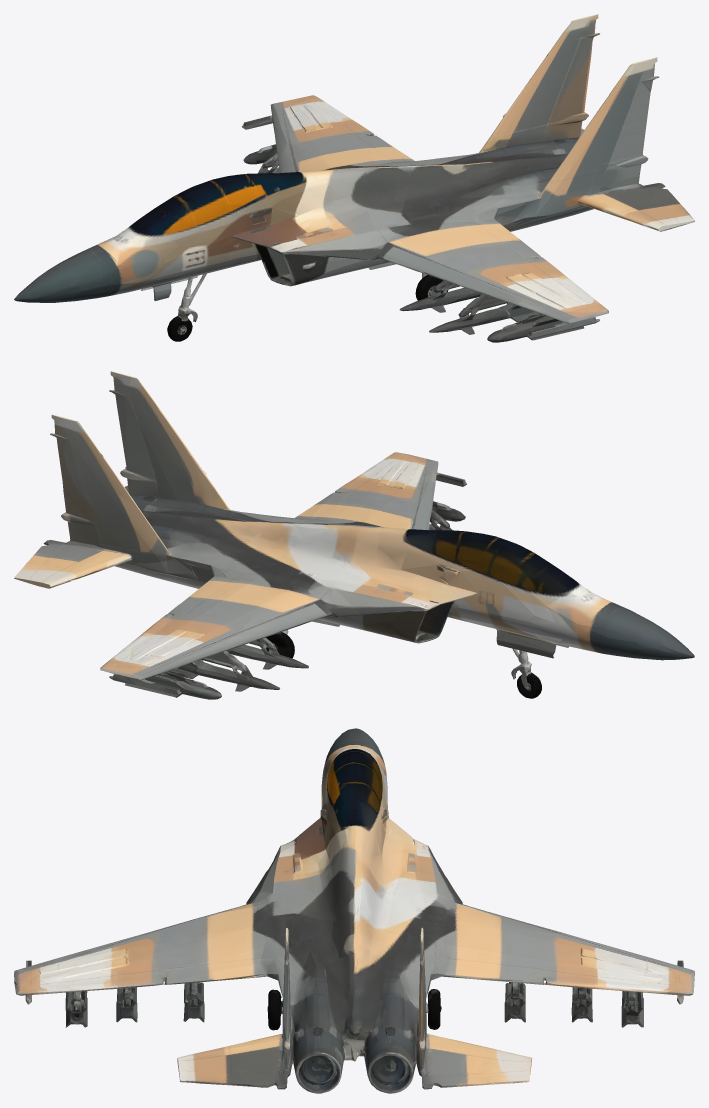
The picture shows the model from 3 angles, top to bottom: view 1: azimuth 30°, elevation 25°; view 2: azimuth 150°, elevation 25°; view 3: azimuth 270°, elevation 25°; orthographic projection. The views are drawn at different scales.
Parts seen in each view (by area): view 1: output_unwrapped; view 2: output_unwrapped; view 3: output_unwrapped.
Part boxes in pixels (<box>): output_unwrapped: <box>14,14,694,342</box>; output_unwrapped: <box>14,371,694,699</box>; output_unwrapped: <box>14,728,694,1093</box>.
Bounding box in the file's own units: 1.9 × 0.5737 × 1.59.
1 material, 1 textured.
